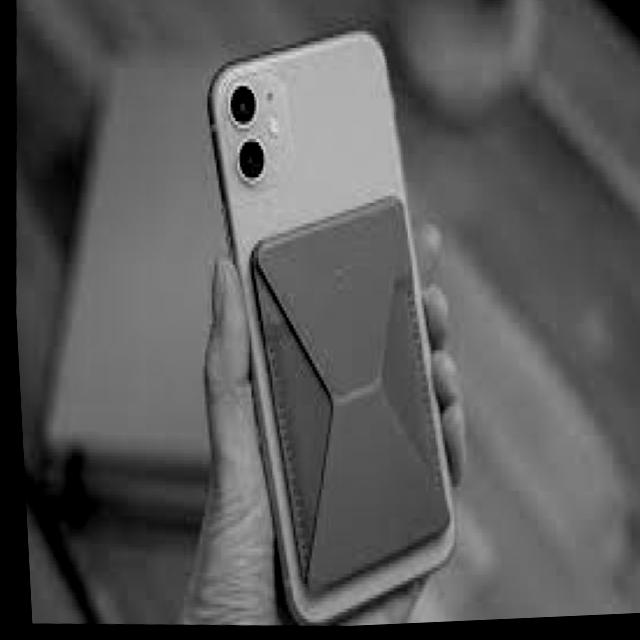Smartphone: (193, 9, 460, 628)
